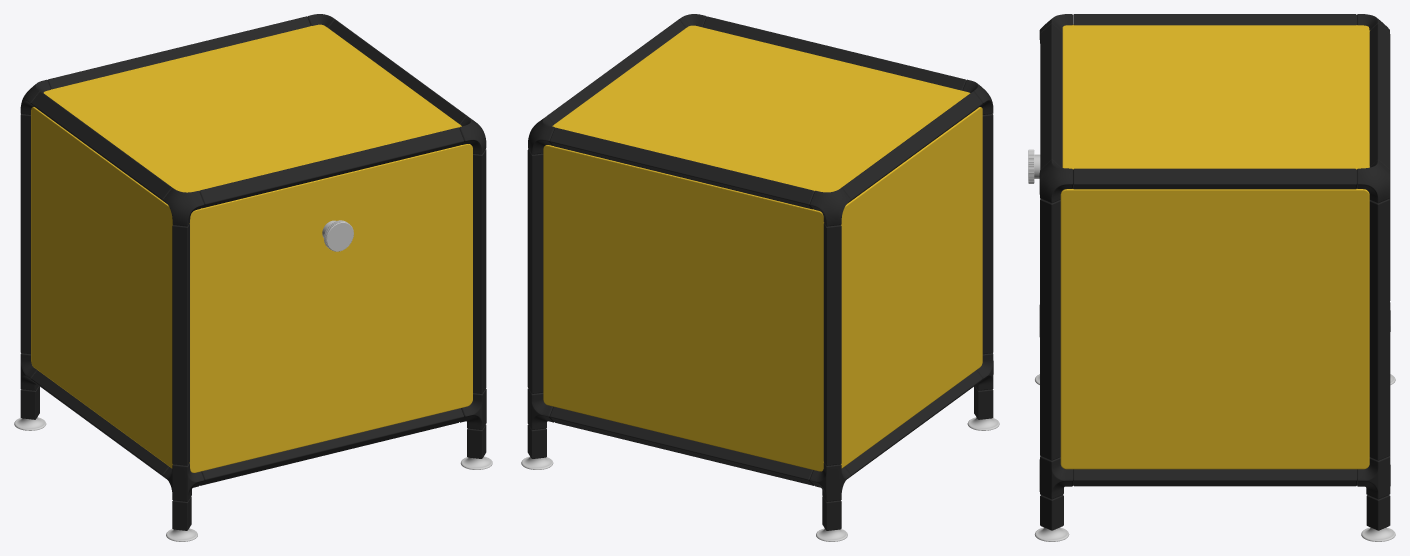
3 renders of one model, left to right at view 1: azimuth 30°, elevation 25°; view 2: azimuth 150°, elevation 25°; view 3: azimuth 270°, elevation 25°, orthographic. The views are drawn at different scales.
Visible parts, largest first — view 1: 374x329x329; view 2: 374x329x329; view 3: 374x329x329.
Boxes of the visible parts, box(x1,y1,x2,y2) form: 374x329x329: box(14, 14, 492, 541); 374x329x329: box(521, 14, 999, 541); 374x329x329: box(1028, 14, 1395, 541).
Bounding box in the file's own units: 0.4639 × 0.4683 × 0.4257.
